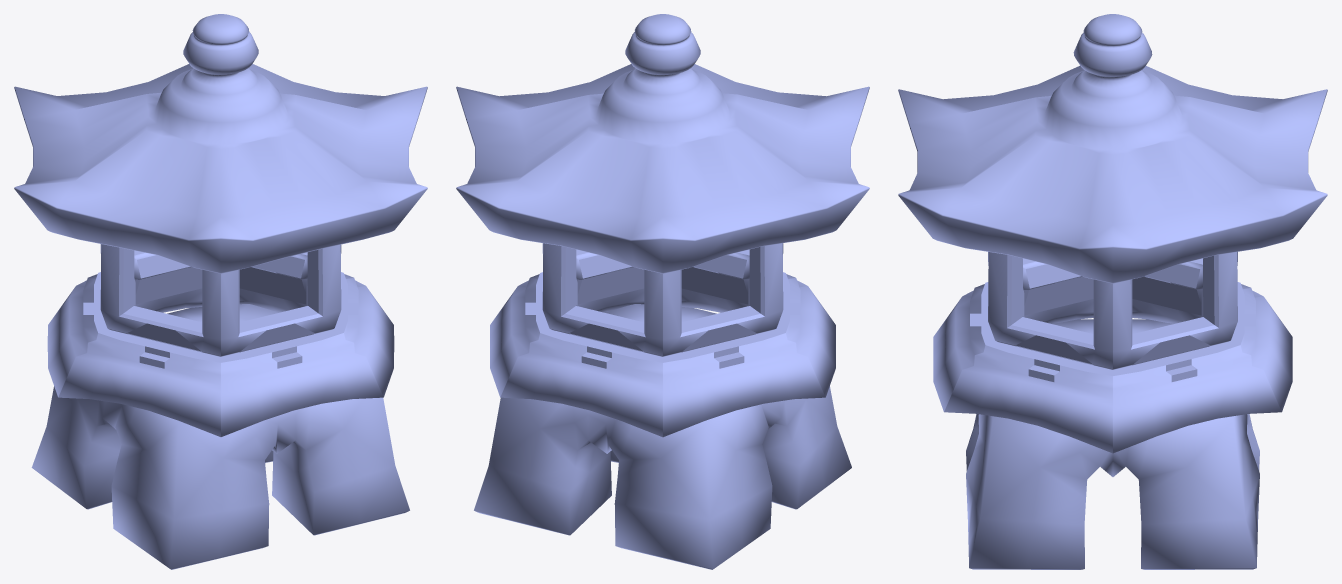
The model's file is partsevenmodel.dae.
The picture shows the model from 3 angles, left to right: view 1: azimuth 30°, elevation 25°; view 2: azimuth 150°, elevation 25°; view 3: azimuth 270°, elevation 25°; orthographic projection. The views are drawn at different scales.
Visible parts, largest first — view 1: final_pagoda_tri; view 2: final_pagoda_tri; view 3: final_pagoda_tri.
Part boxes in pixels (x1,y1,x2,y2): final_pagoda_tri: (14,14,427,569); final_pagoda_tri: (456,14,869,569); final_pagoda_tri: (898,14,1327,569).
Bounding box in the file's own units: 2.41 × 2.09 × 2.63.
